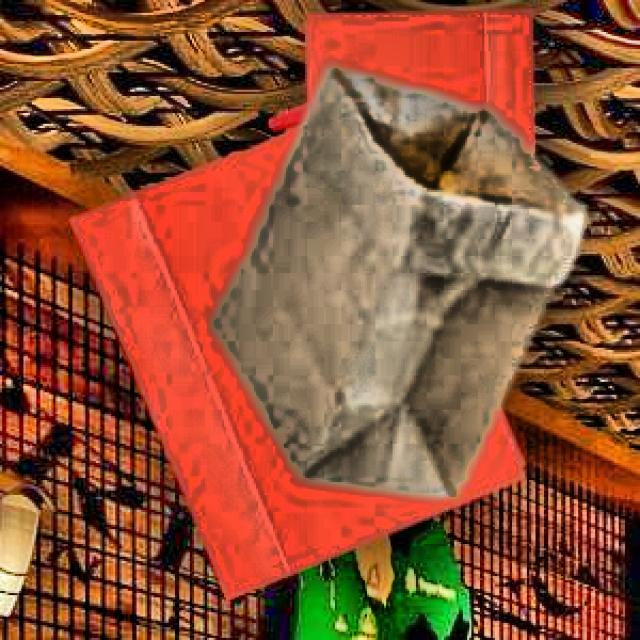Paper-bag: (190, 64, 592, 501)
